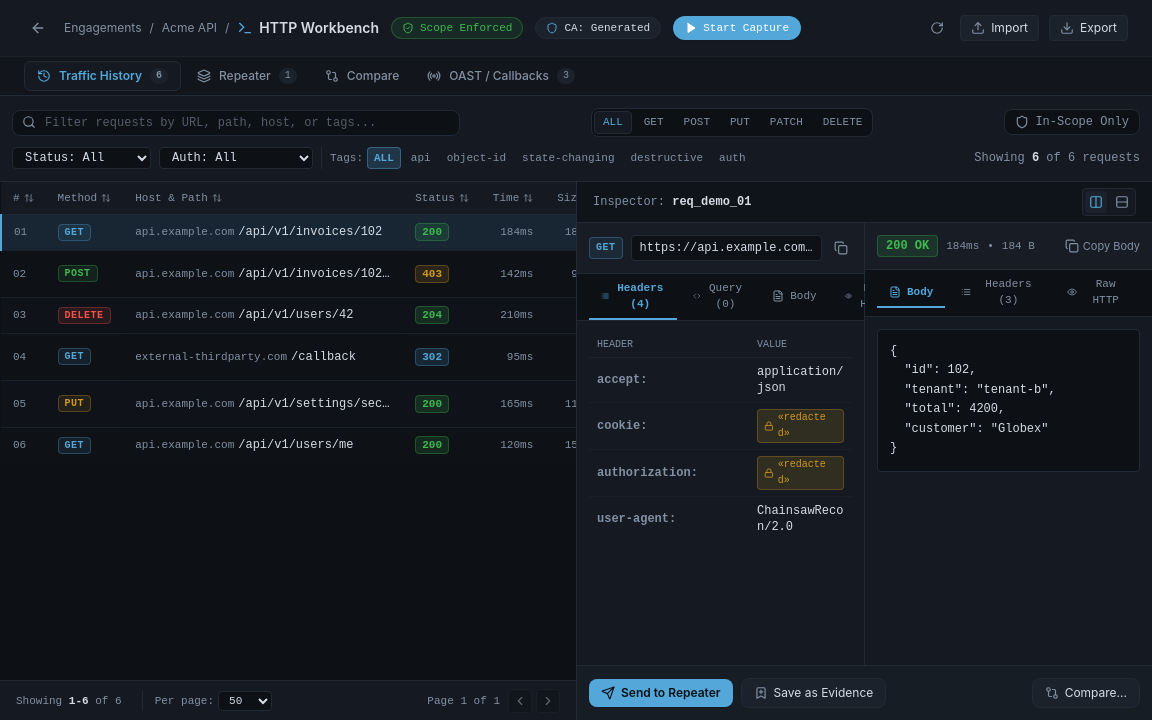
Test: WorkbenchPage (Milestone 3: Native HTTP Workbench) Tests › Scope Gate blocks replay of out-of-scope targets with policy error
Check: the text "/callback" is shown, box [291,350,356,364]
Click the text "/callback": (513, 356) [1,333,1025,380]
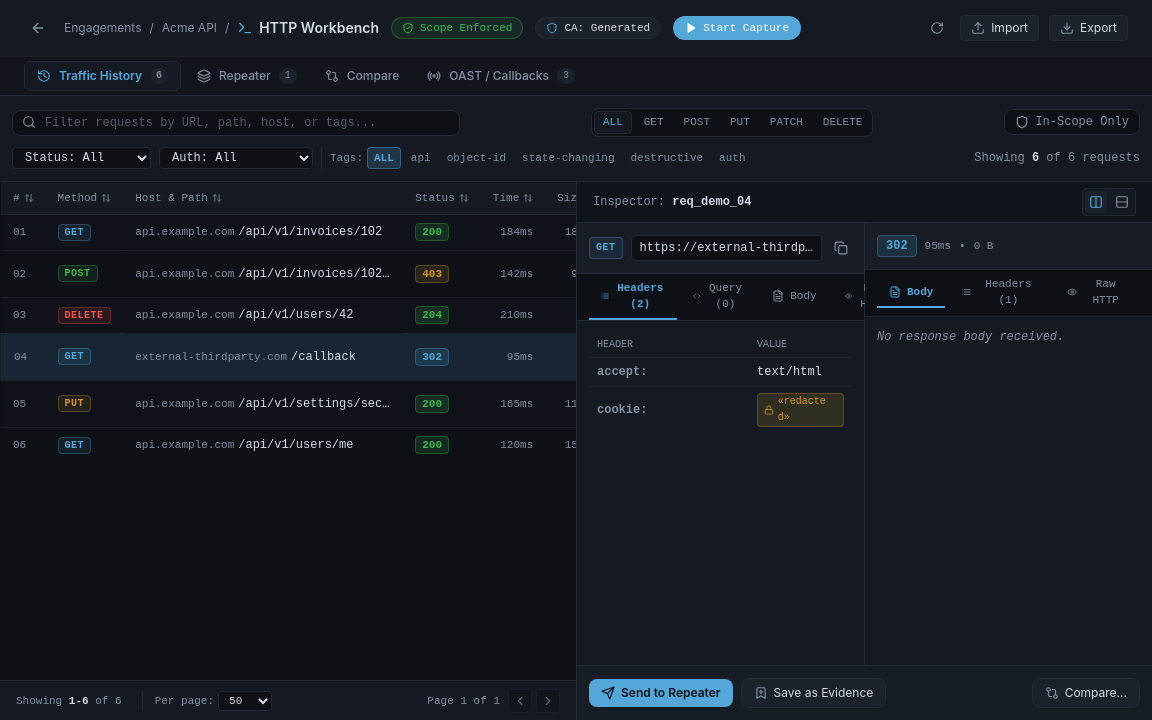
Note: Send to Repeater
Click the button "Send to Repeater": (661, 693) [589,679,732,707]
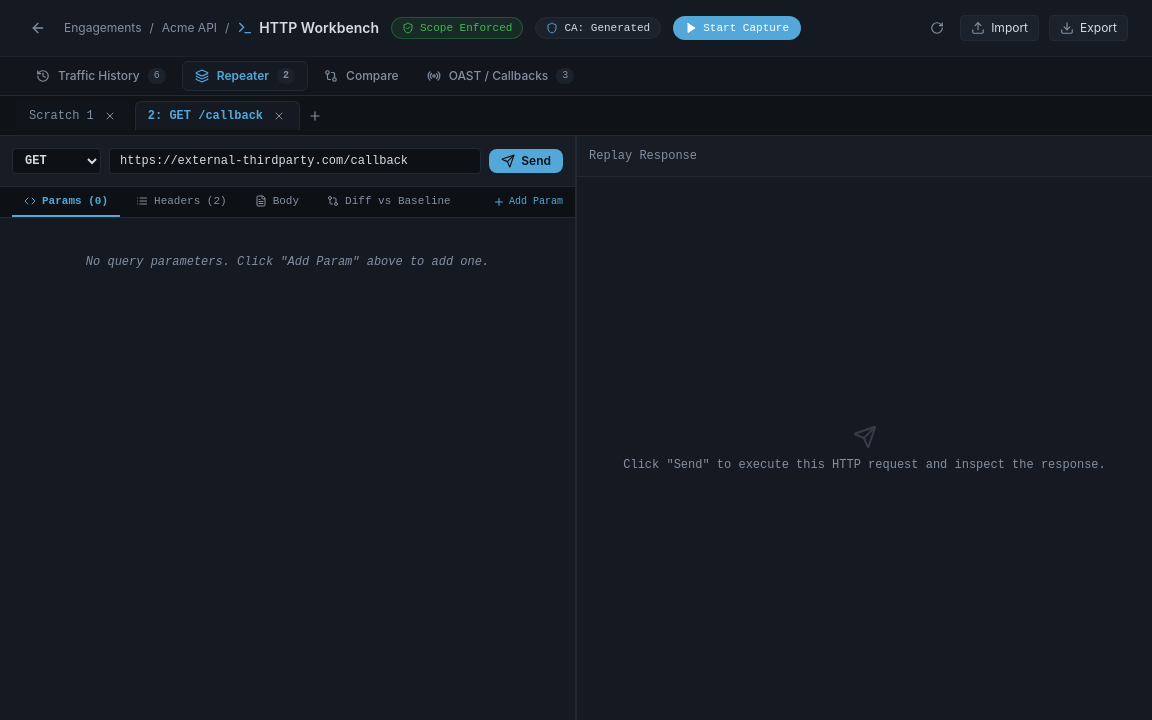
Check: the button "Send" is shown
Note: Click Send
Click the button "Send": (526, 161) [489,149,563,173]
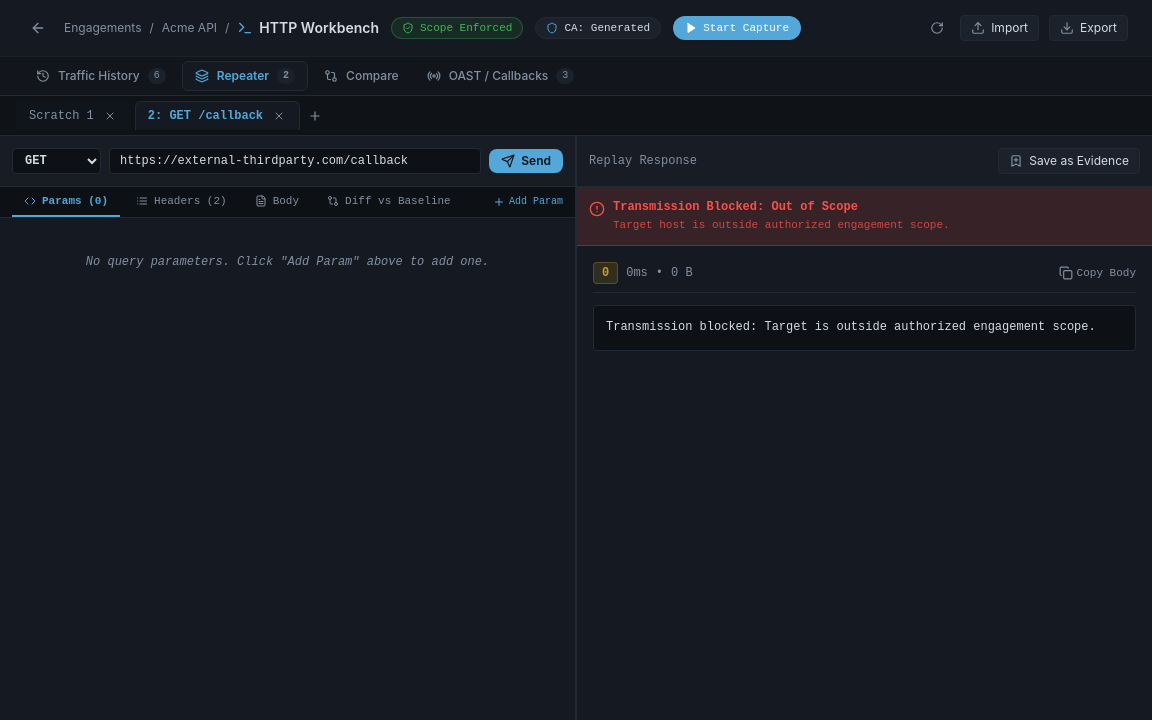
Check: the text "Transmission Blocked: Out of Scope" is shown, box [613,200,858,214]
Check: the text "Target host is outside authorized engagement scope." is shown, box [613,215,950,233]
